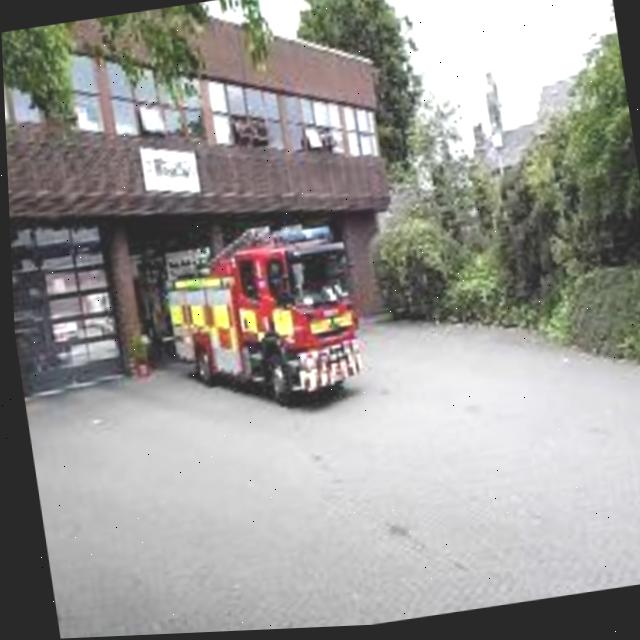emergency: (150, 224, 363, 427)
